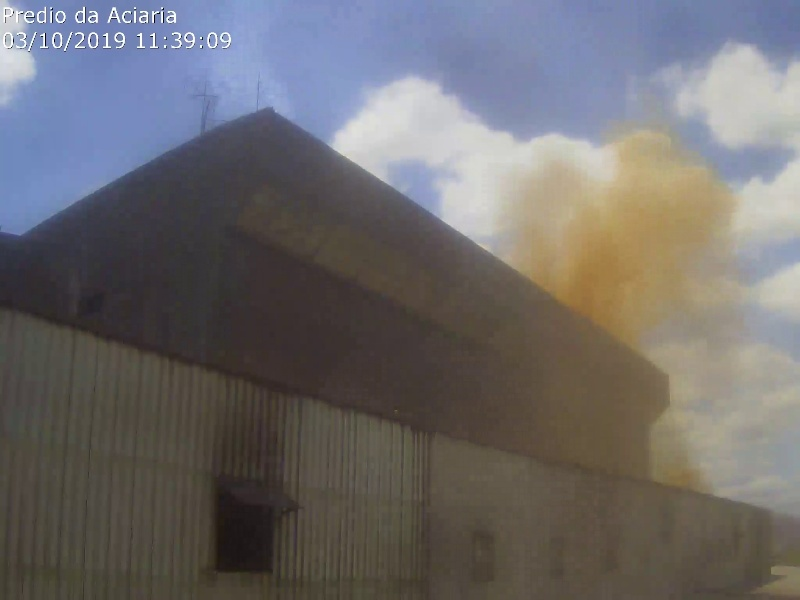bom: (236, 7, 488, 361), (2, 1, 234, 208)
pessimo: (509, 77, 755, 380), (532, 291, 719, 490)
